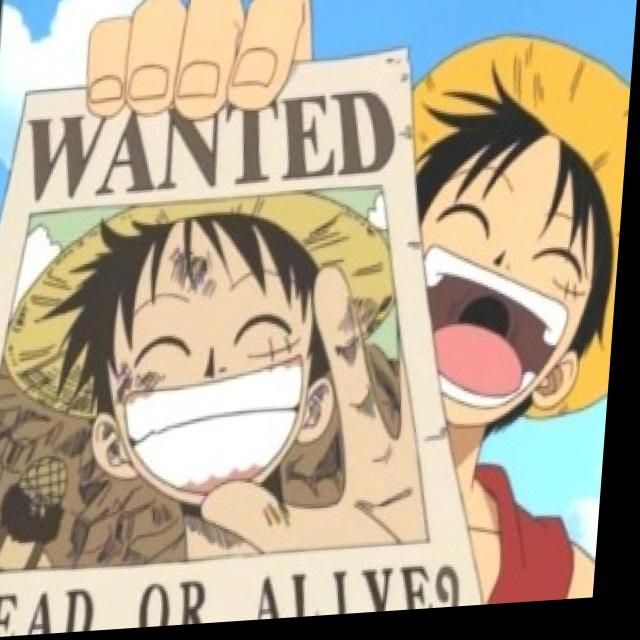Luffy: (25, 196, 401, 501), (371, 69, 630, 449)
